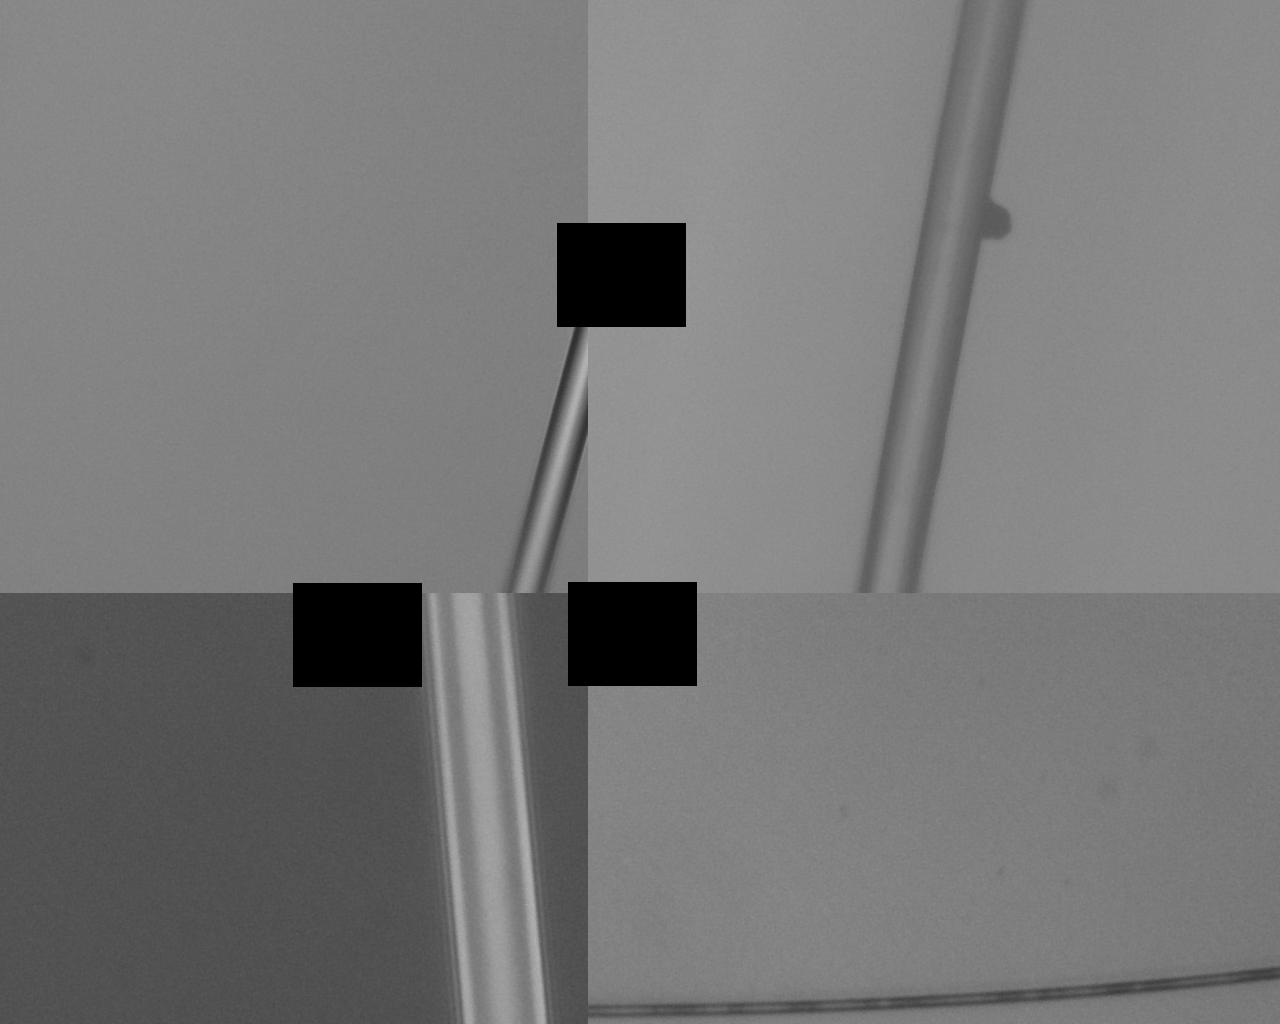fiber: (47, 419, 311, 1024), (760, 419, 898, 1024)
